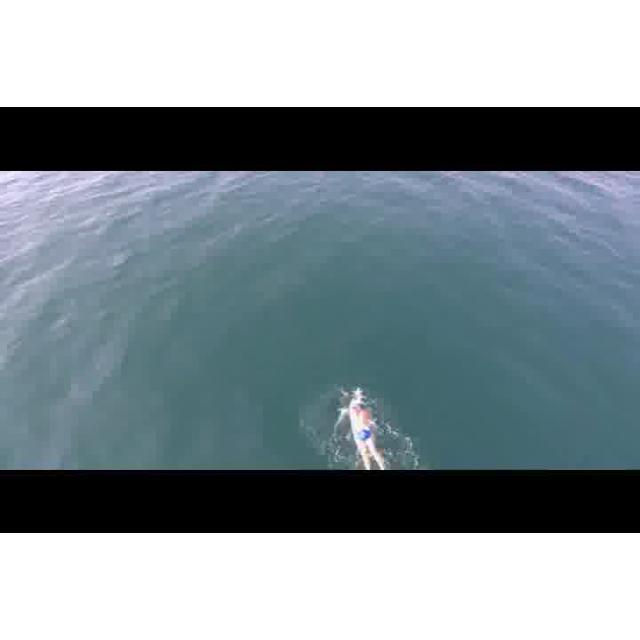human: (338, 393, 391, 468)
